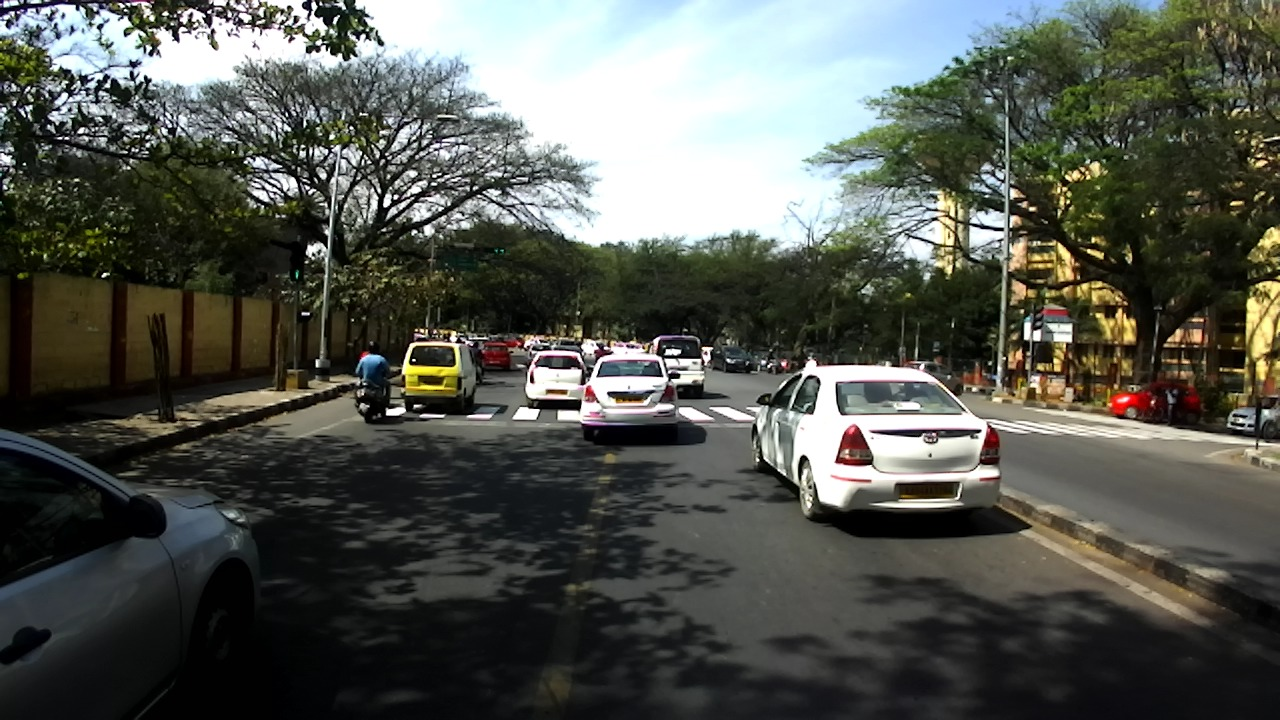autorickshaw: (441, 330, 452, 341)
car: (2, 427, 265, 720), (750, 366, 1002, 522), (579, 355, 681, 441), (400, 342, 479, 415), (1107, 380, 1203, 424), (525, 349, 588, 408), (650, 335, 705, 397), (1226, 395, 1279, 439), (903, 362, 964, 396), (712, 344, 753, 375), (480, 342, 514, 371), (750, 350, 771, 372), (528, 343, 551, 362), (554, 345, 583, 360), (578, 338, 601, 356), (624, 341, 651, 354), (609, 341, 630, 355), (503, 335, 522, 350), (778, 352, 791, 373), (701, 347, 713, 367), (523, 337, 540, 351), (451, 331, 466, 343), (489, 334, 504, 343), (477, 332, 487, 340)
motorcycle: (352, 367, 390, 424), (1144, 393, 1186, 424), (766, 360, 779, 376)
rider: (354, 342, 392, 410), (1165, 380, 1178, 426), (1174, 385, 1186, 425), (472, 342, 485, 375), (357, 340, 373, 364), (594, 342, 608, 365), (803, 352, 817, 369), (764, 348, 775, 367)
traffic light: (287, 240, 306, 284), (440, 254, 478, 273), (1033, 303, 1043, 328), (297, 309, 311, 324), (478, 249, 506, 254)
vehicle fallback: (792, 348, 806, 371), (558, 336, 576, 348), (540, 336, 558, 347), (413, 330, 424, 341), (430, 328, 440, 340), (464, 331, 477, 339)
